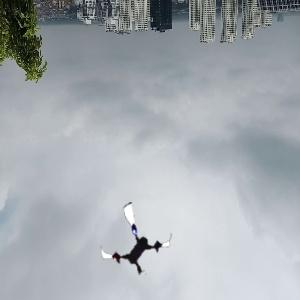drone: (97, 203, 175, 281)
